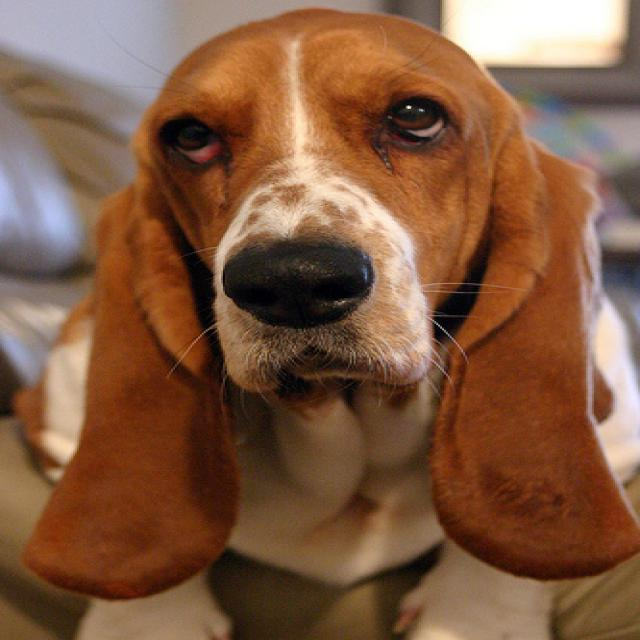dog-basset_hound: (6, 1, 636, 637)
